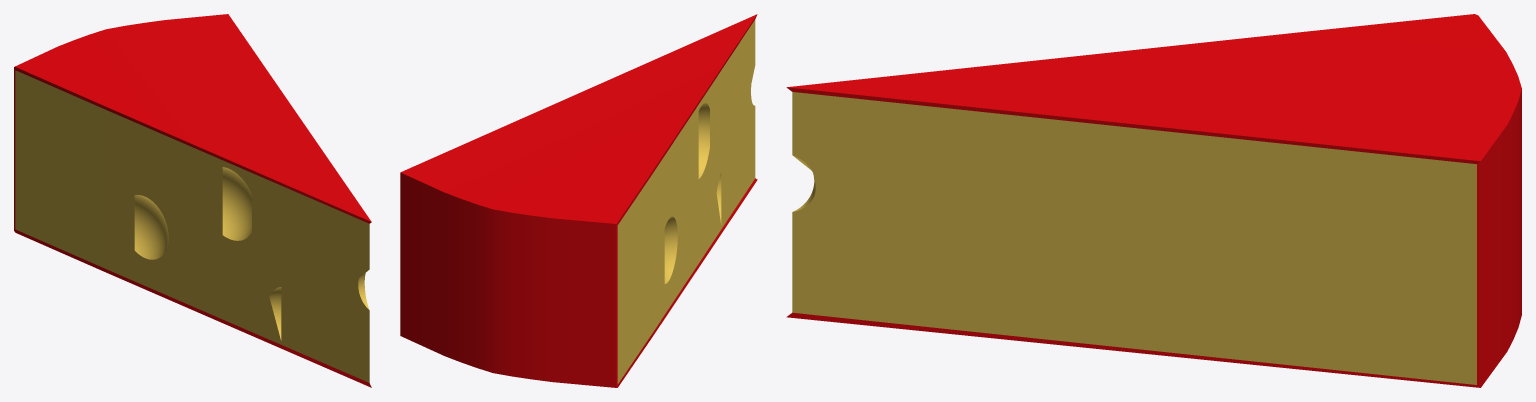
The model's file is madstore_cheese.fbx.
3 views of the same model, side by side, from view 1: azimuth 30°, elevation 25°; view 2: azimuth 150°, elevation 25°; view 3: azimuth 270°, elevation 25° (orthographic). The views are drawn at different scales.
Visible parts, largest first — view 1: Cube; view 2: Cube; view 3: Cube.
Part boxes in pixels (<box>): Cube: <box>14,14,371,387</box>; Cube: <box>400,14,757,387</box>; Cube: <box>786,14,1521,387</box>.
Size of the model in its own units: 283 by 208 by 604.
